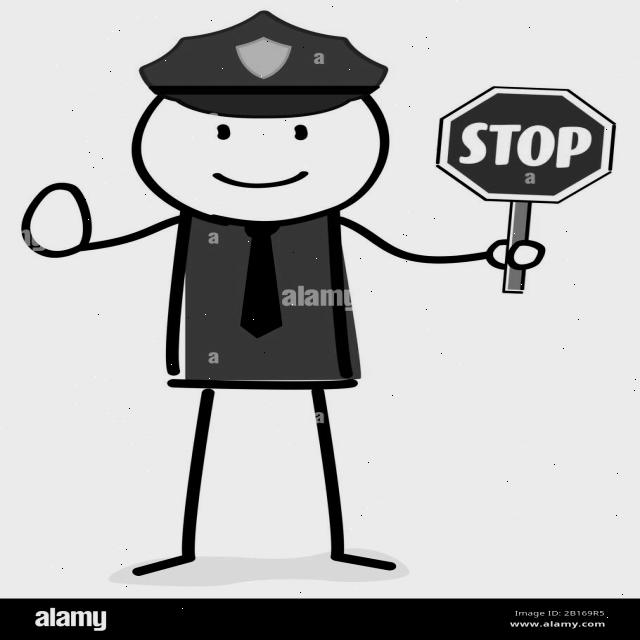stop: (425, 80, 620, 203)
